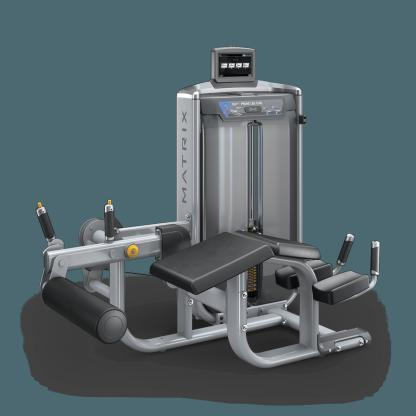reg curl machine: (33, 39, 385, 376)
